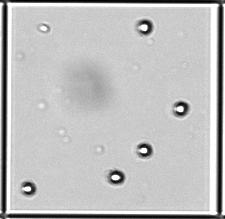Living Cell: (136, 18, 153, 36), (136, 142, 152, 158), (173, 101, 188, 116), (21, 181, 35, 196), (109, 170, 124, 184), (36, 23, 50, 32)
